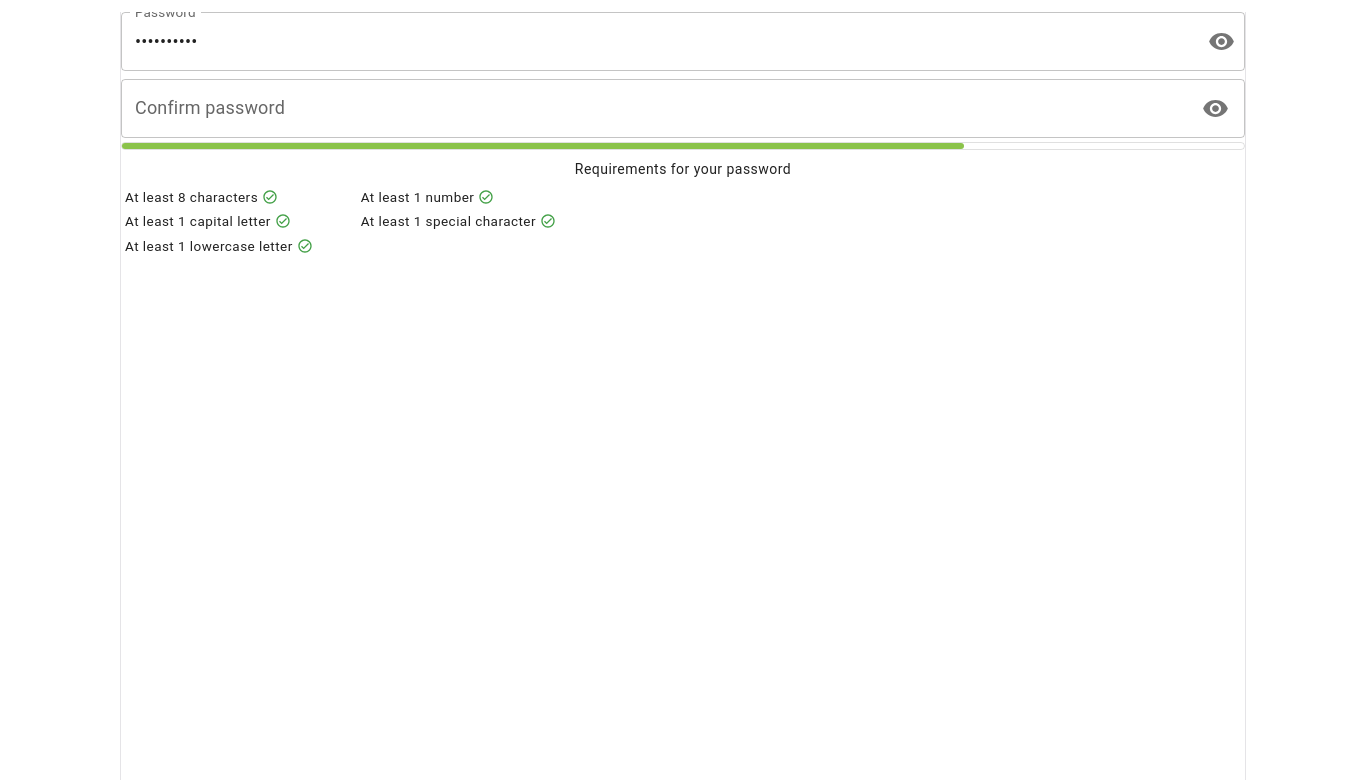
Test: Confirm Field › Should show match icon when passwords are identical
Type "MySecret1!" into the password field with test id "psm-confirm-input" at (655, 108), box [121,79,1189,138]
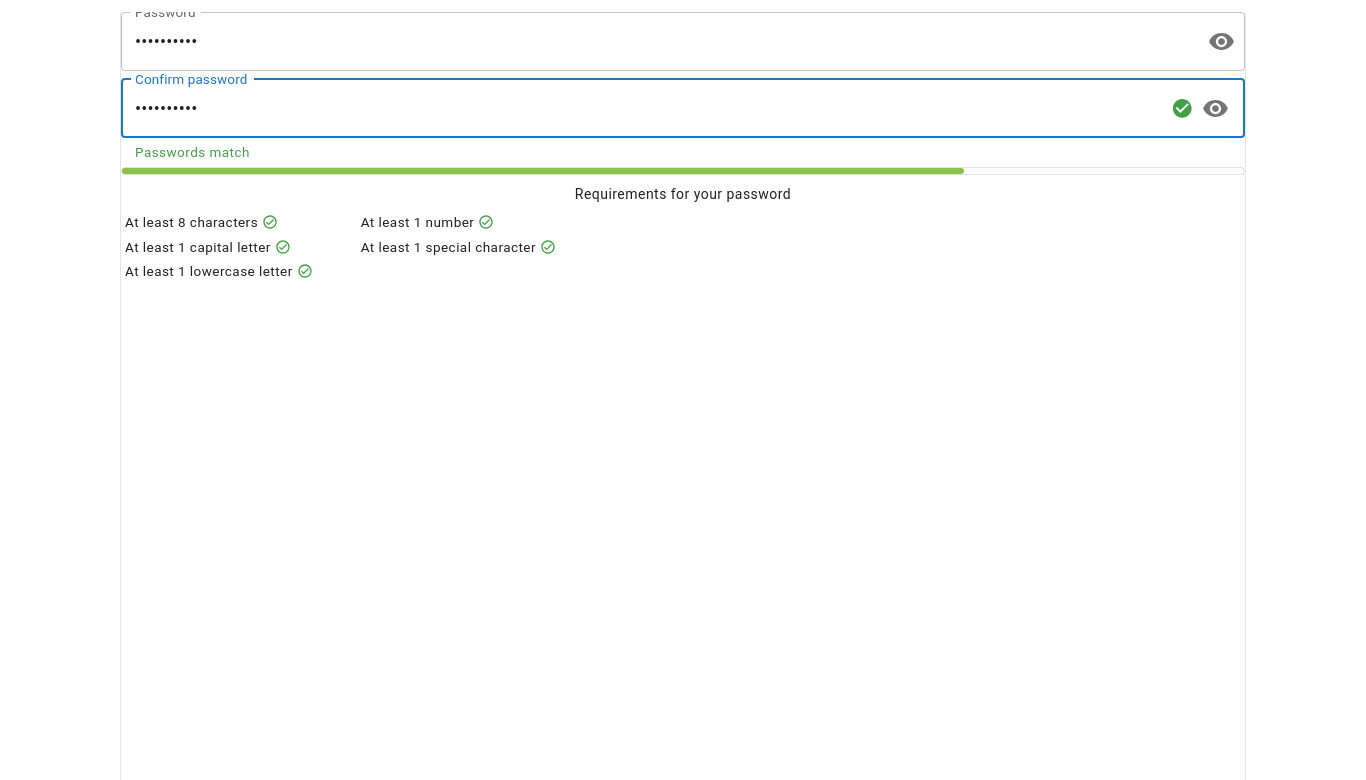
Check: the icon with test id "psm-confirm-match" is shown, box [1170,97,1193,120]
